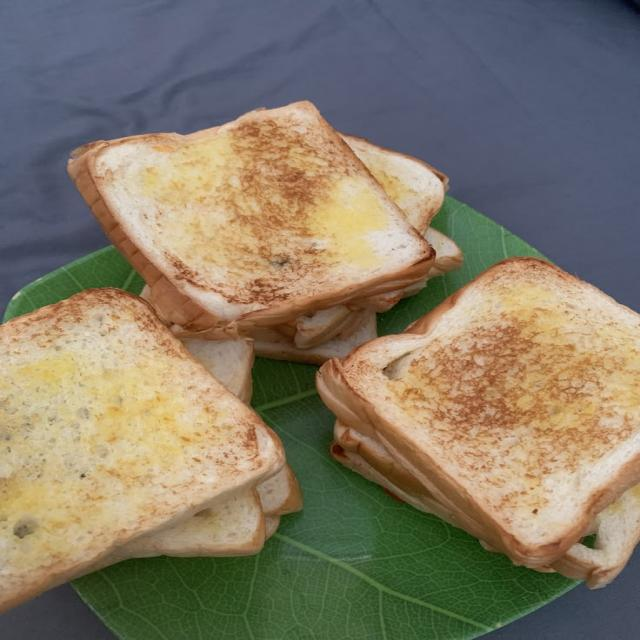toast bread: (319, 258, 639, 567), (0, 289, 284, 609), (68, 102, 434, 334)
